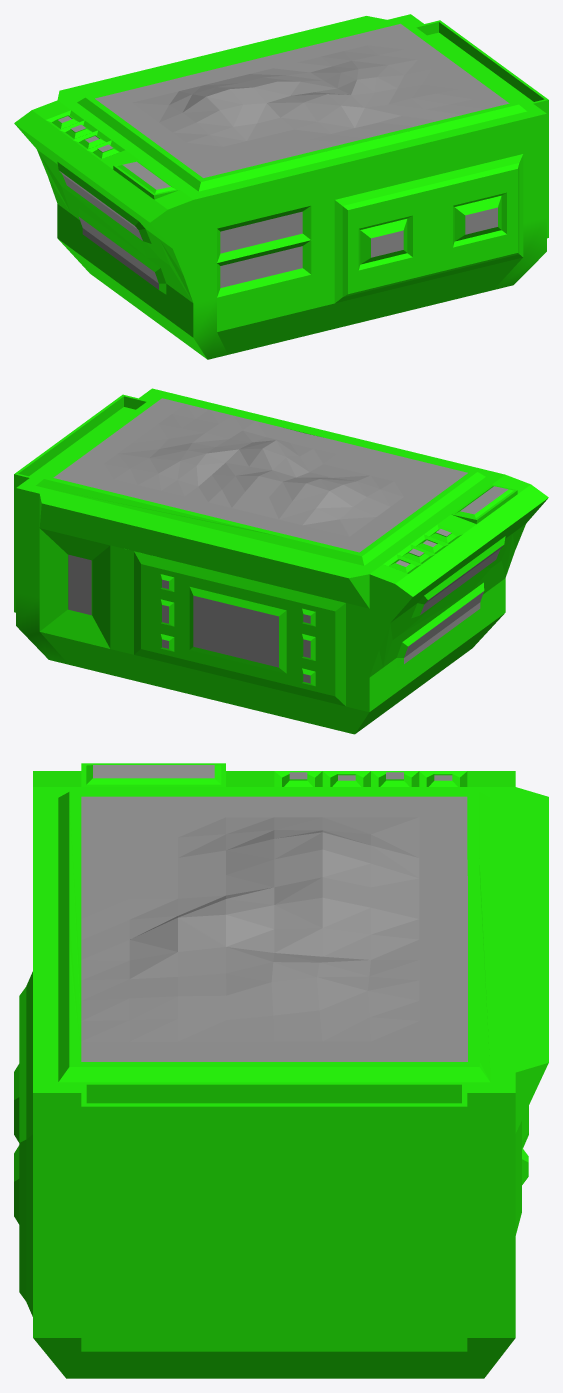
Rendered from Command Table.FBX.
3 views of the same model, one above another, from view 1: azimuth 30°, elevation 25°; view 2: azimuth 150°, elevation 25°; view 3: azimuth 270°, elevation 25° (orthographic). The views are drawn at different scales.
Parts seen in each view (by area): view 1: Box002; view 2: Box002; view 3: Box002.
Part boxes in pixels (<box>): Box002: <box>14,14,548,359</box>; Box002: <box>14,388,548,734</box>; Box002: <box>14,763,548,1378</box>.
Size of the model in its own units: 68.96 by 31.11 by 43.64.
